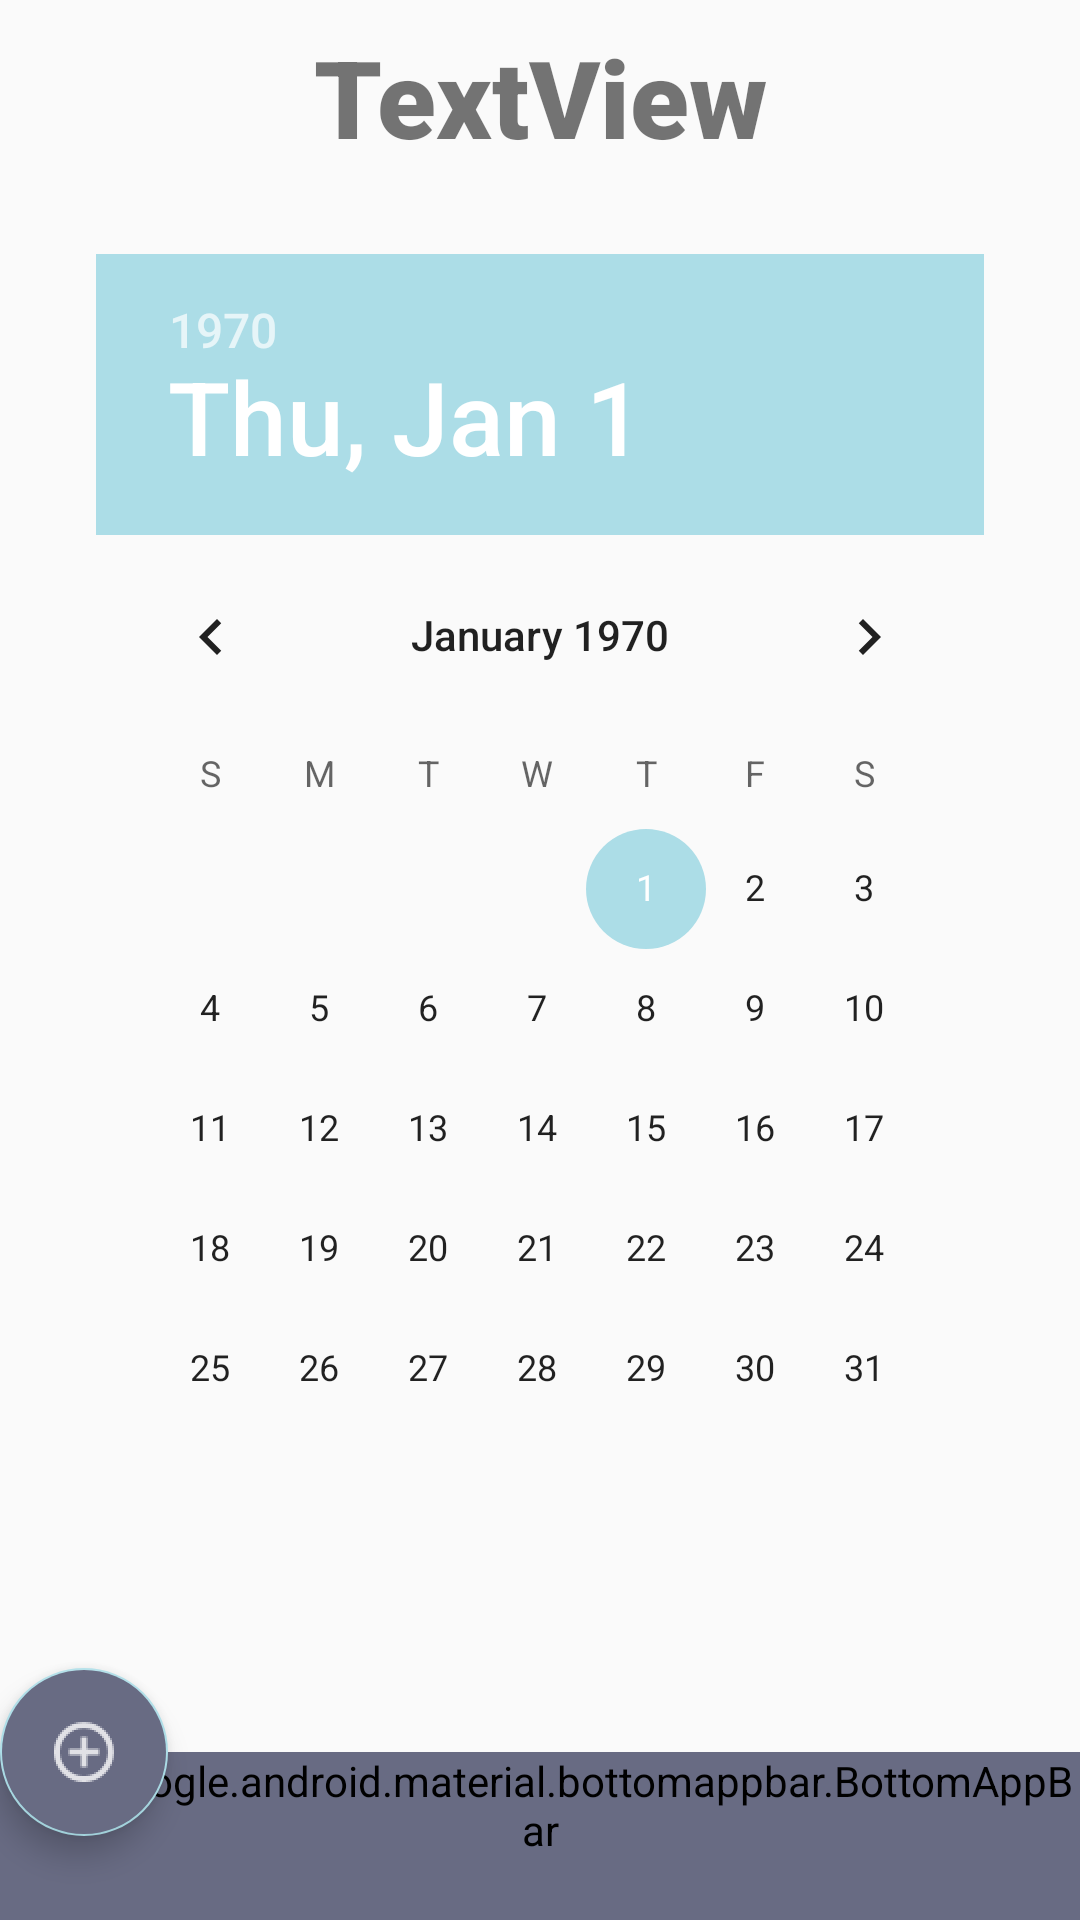

Named icons in this screenshot (1080px×1920px) and their centers, point (x, y):
add: point (84, 1752)
